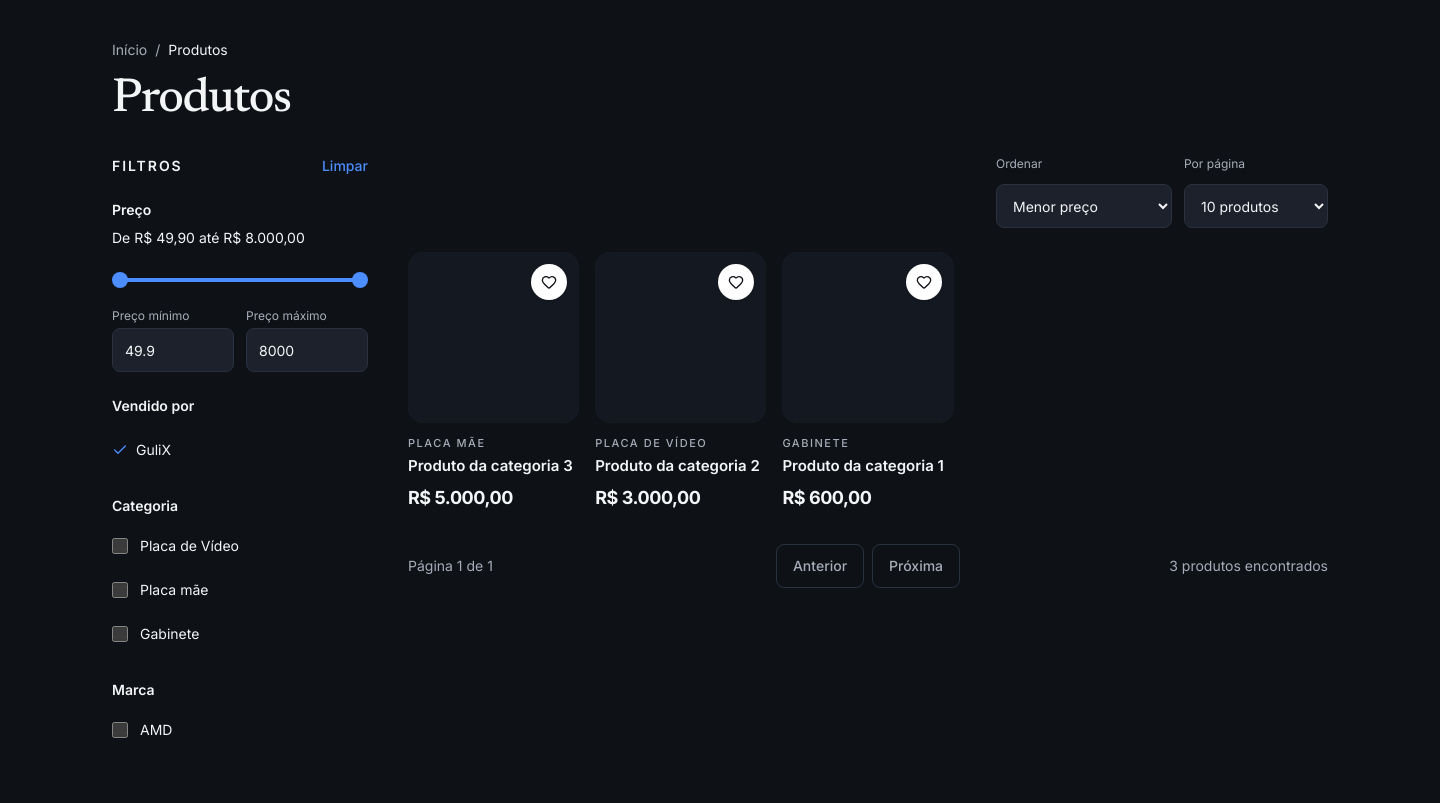
catálogo › filtra Placa de Vídeo, Placa mãe e as demais pelo id da API
The image size is (1440, 803).
Expected: the heading "Produto da categoria 3" is shown, [408,456,579,476]
Click the checkbox labelled "Placa de Vídeo": coordinates (120, 546) [112,538,128,554]
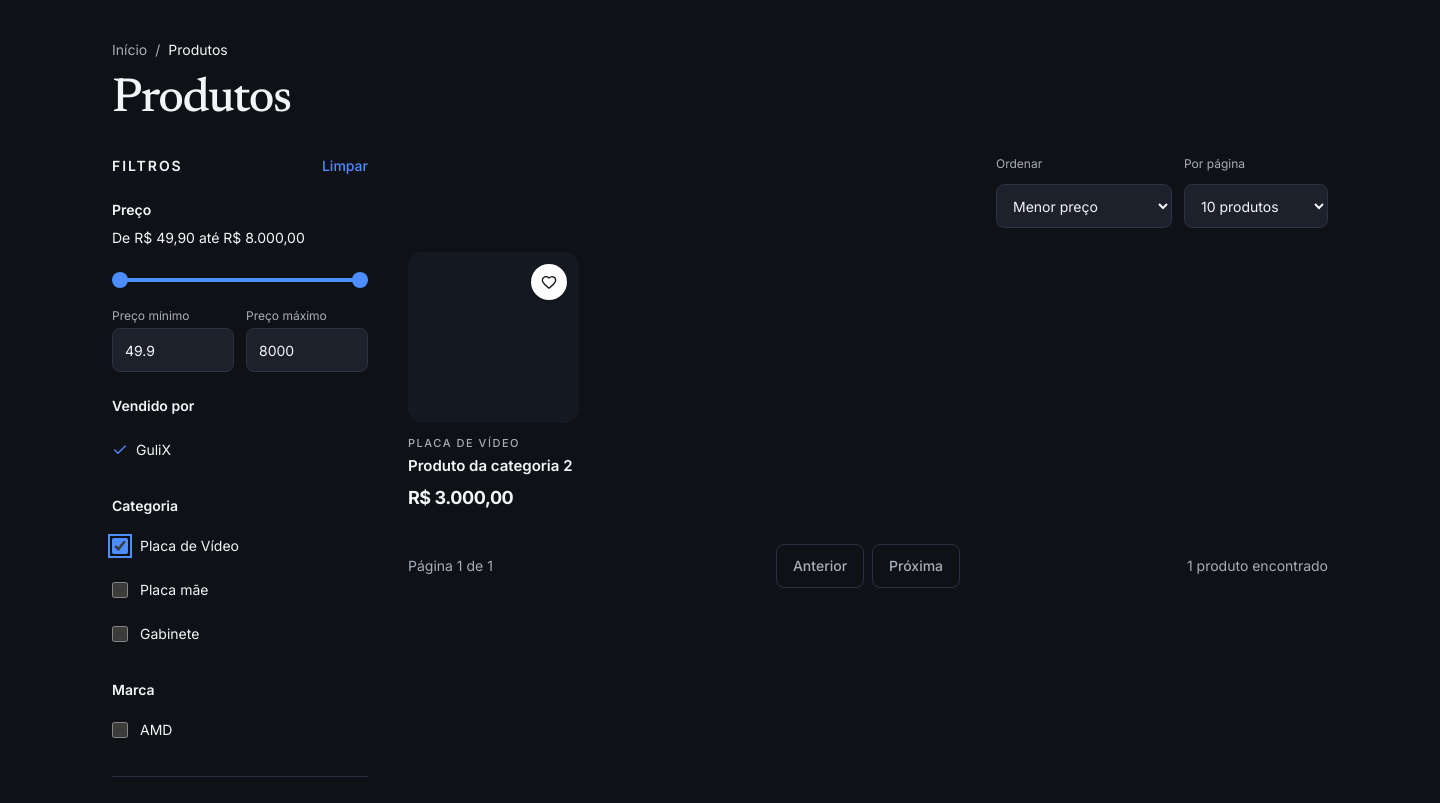
Expected: the heading "Produto da categoria 2" is shown, [408,456,579,476]
Now the link "Produto da categoria 3" is gone
Click the checkbox labelled "Placa mãe": coordinates (120, 590) [112,582,128,598]
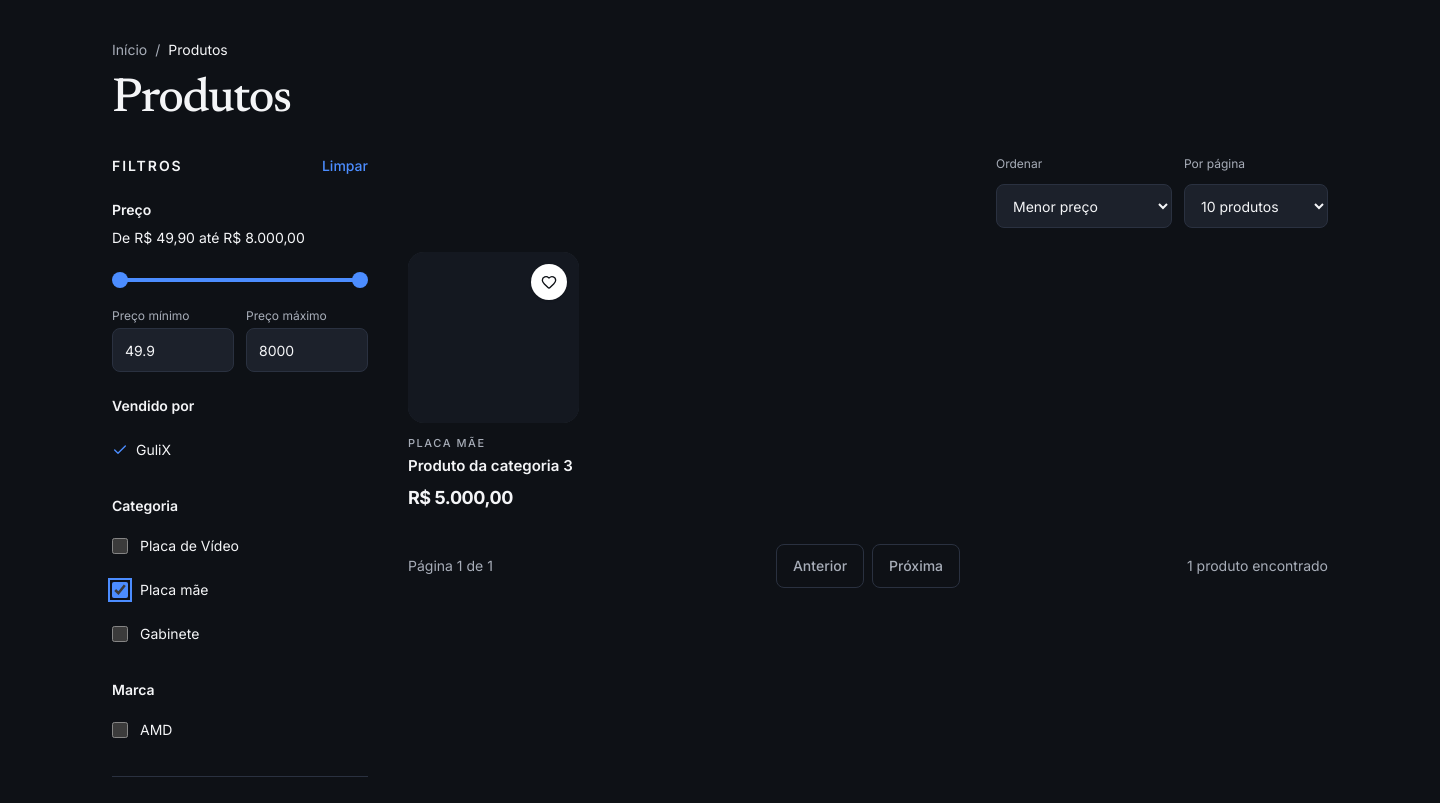
Now the heading "Produto da categoria 3" is shown, box [408,456,579,476]
Now the link "Produto da categoria 2" is gone
Click the checkbox labelled "Gabinete": coordinates (120, 634) [112,626,128,642]
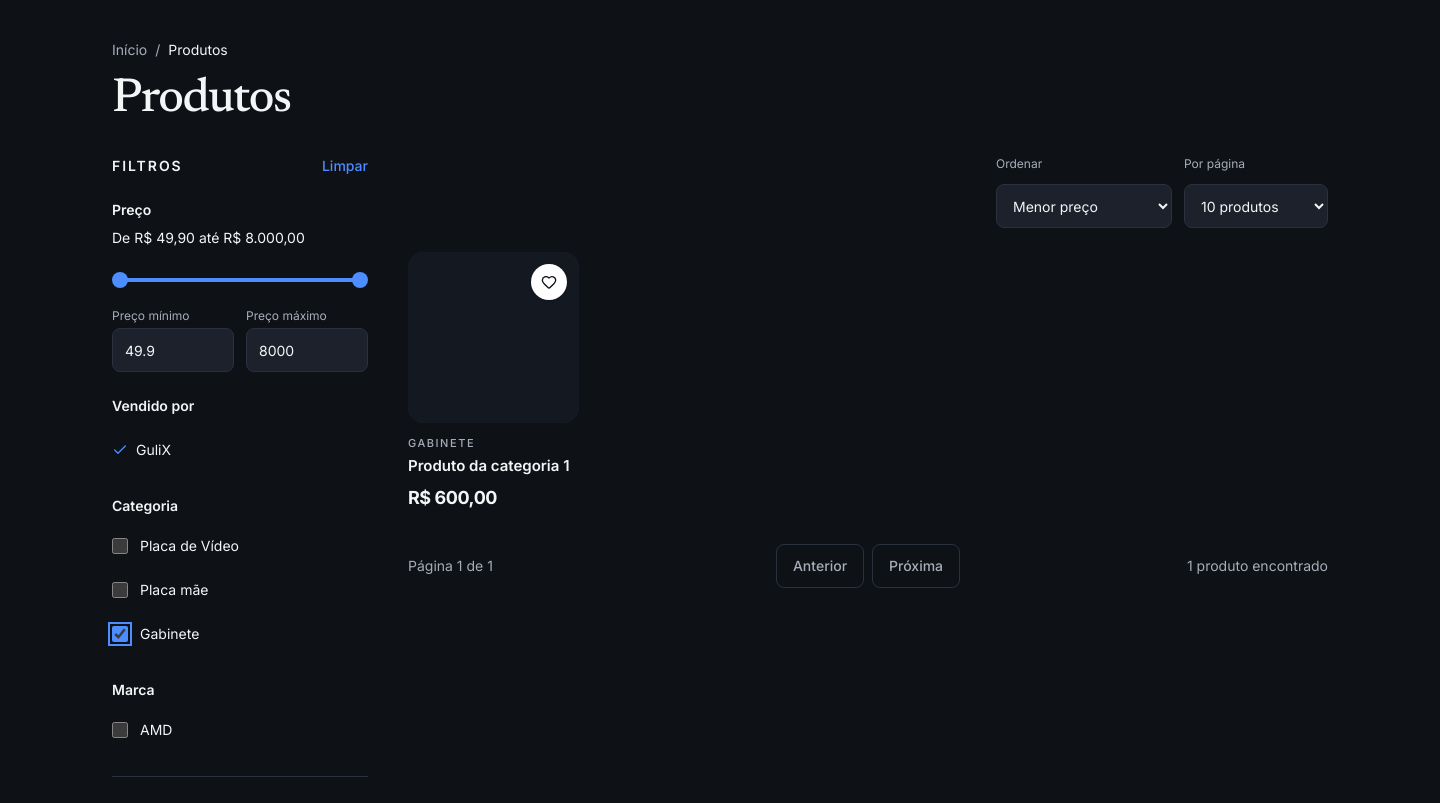
Click the checkbox labelled "AMD": coordinates (120, 730) [112,722,128,738]
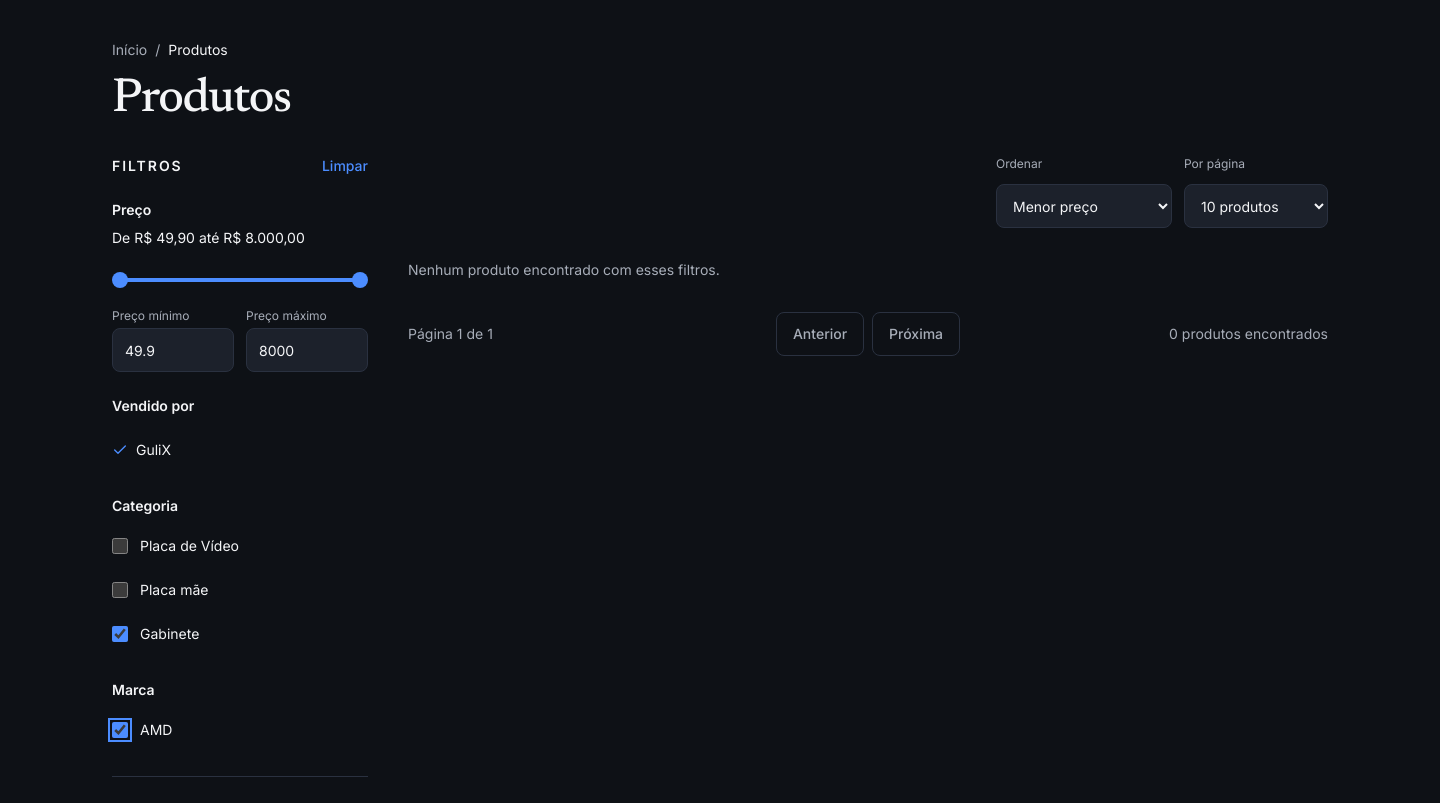
Now the text "Nenhum produto encontrado com esses filtros." is shown, box [408,261,720,278]
